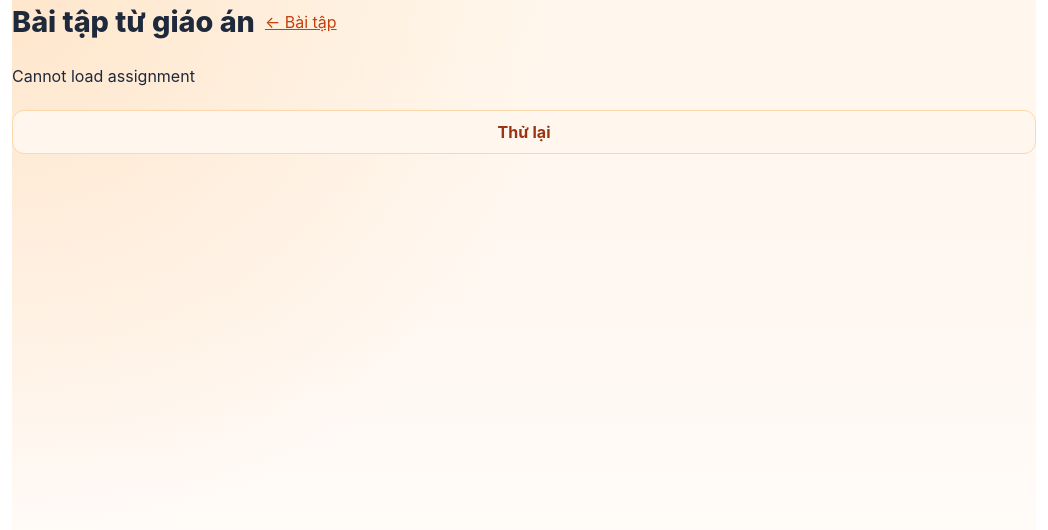
Test: exposes loading failures and retries without marking homework viewed
This screenshot has width=1048, height=530.
Check: the message reads "Cannot load assignment", box 12,66 -> 195,86
Click the button "Thử lại": click(524, 132) 12,110 -> 1036,154
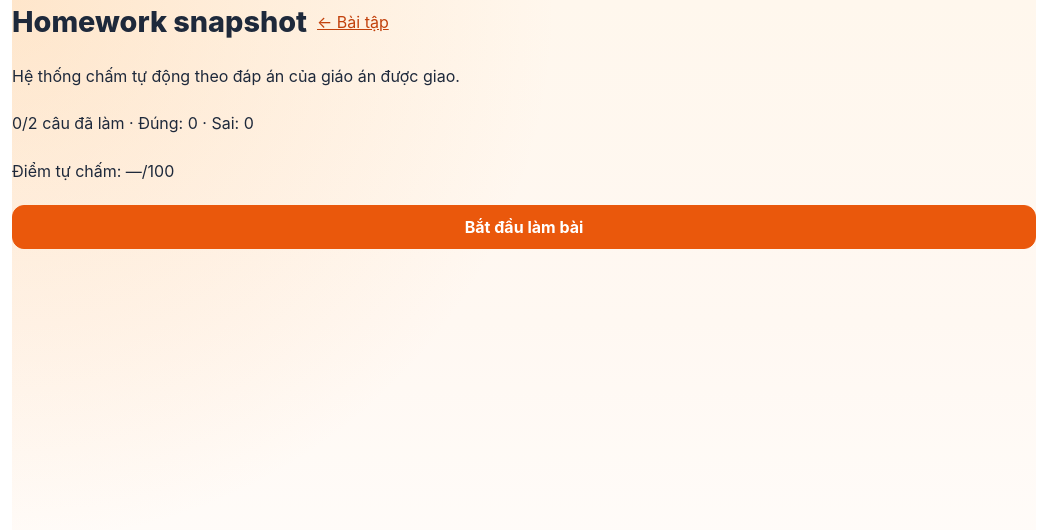
Check: the button "Bắt đầu làm bài" is shown, box 12,205 -> 1036,249
